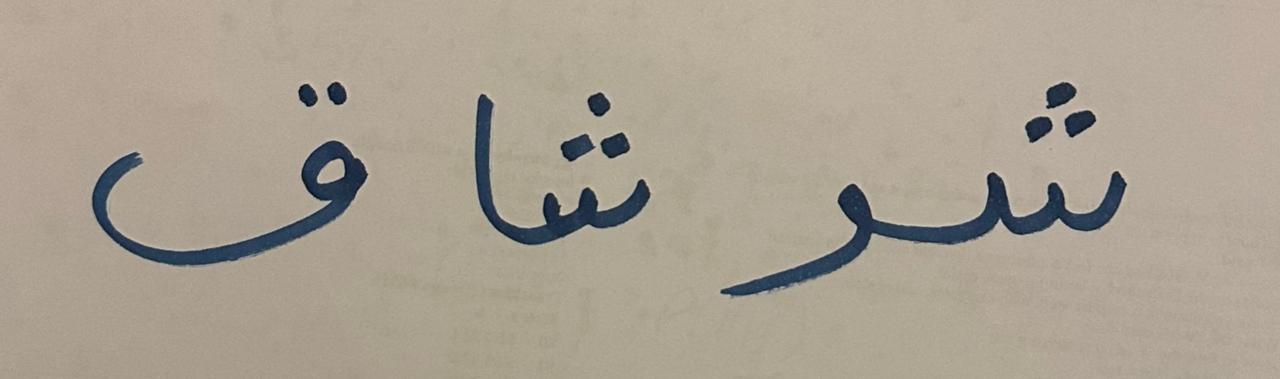alef: (426, 51, 520, 281)
reh: (62, 53, 420, 302)
tah: (915, 45, 1156, 296), (522, 52, 675, 279)
yeh: (681, 108, 911, 336)
